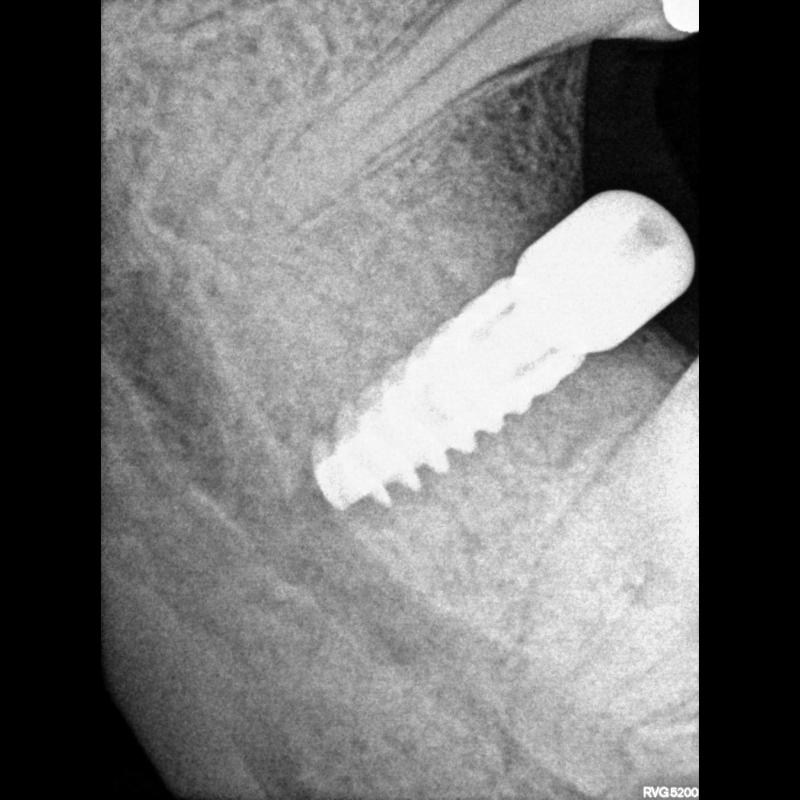ADIN: (309, 268, 603, 506)
